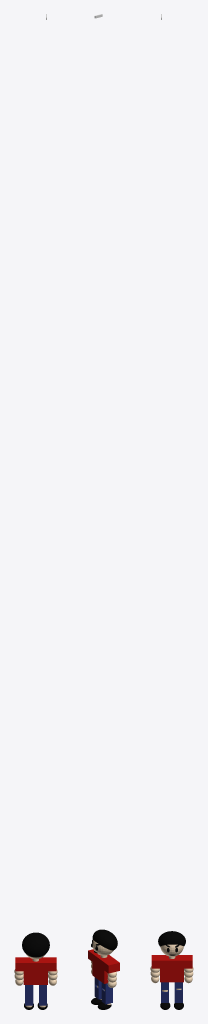
The model's file is Buffjack.fbx.
3 views of the same model, side by side, from view 1: azimuth 90°, elevation 25°; view 2: azimuth 210°, elevation 25°; view 3: azimuth 270°, elevation 25° (orthographic).
Visible parts, largest first — view 1: Cube.001, Sphere.010; view 2: Cube.001, Sphere.010, Sphere, Cube.004; view 3: Cube.001, Sphere.010, Sphere.
Part boxes in pixels (x1,y1,x2,y2): Cube.001: [15, 957, 56, 984]; Sphere.010: [22, 932, 49, 957]; Cube.001: [88, 949, 119, 983]; Sphere.010: [92, 929, 117, 950]; Sphere: [92, 940, 113, 955]; Cube.004: [101, 989, 112, 1004]; Cube.001: [151, 955, 192, 982]; Sphere.010: [158, 931, 185, 946]; Sphere: [160, 944, 183, 956].
Bounding box in the file's own units: 221 × 9089 × 359.
